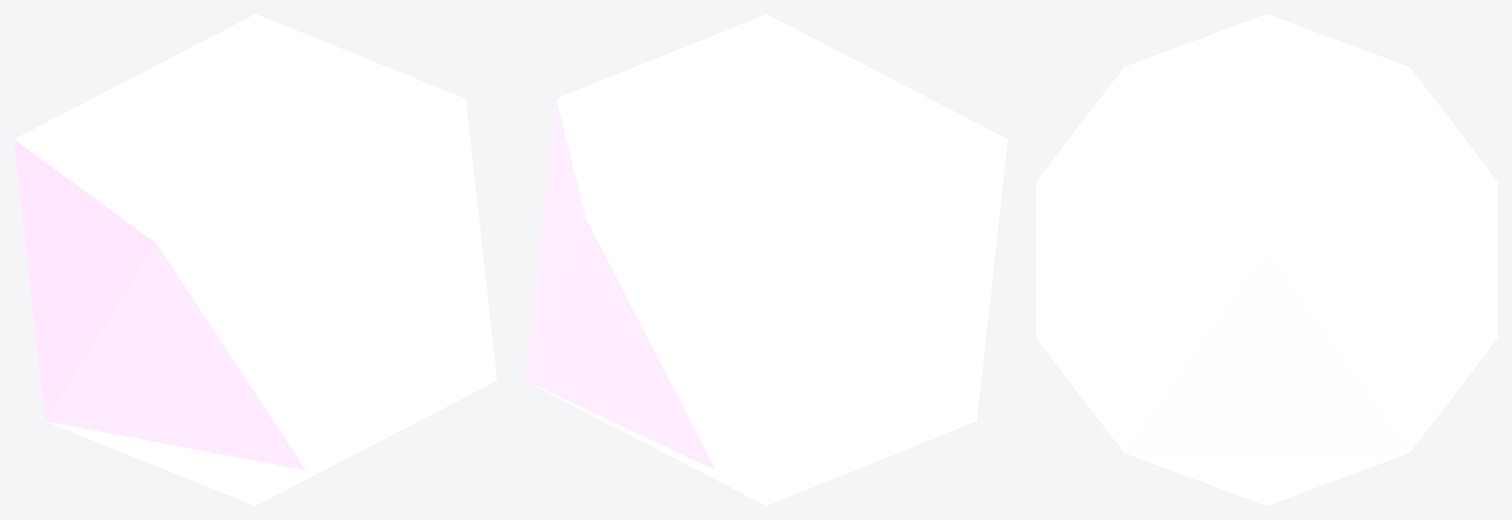
The model's file is SM_Keeper_UmbraCoiled_Drone2.fbx.
3 renders of one model, left to right at view 1: azimuth 30°, elevation 25°; view 2: azimuth 150°, elevation 25°; view 3: azimuth 270°, elevation 25°, orthographic.
Parts seen in each view (by area): view 1: SM_Keeper_UmbraCoiled_Drone2; view 2: SM_Keeper_UmbraCoiled_Drone2; view 3: SM_Keeper_UmbraCoiled_Drone2.
Part boxes in pixels (box(x1,y1,x2,y2)): SM_Keeper_UmbraCoiled_Drone2: box(14, 14, 496, 505); SM_Keeper_UmbraCoiled_Drone2: box(525, 14, 1007, 505); SM_Keeper_UmbraCoiled_Drone2: box(1036, 14, 1497, 505).
Bounding box in the file's own units: 0.5009 × 0.56 × 0.4764.
